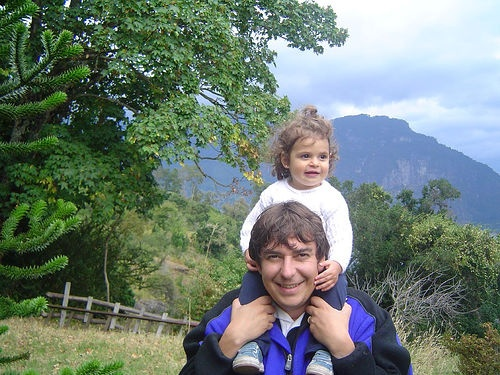head: (249, 198, 331, 315), (278, 115, 335, 188)
person: (173, 199, 385, 373), (242, 106, 349, 217)
